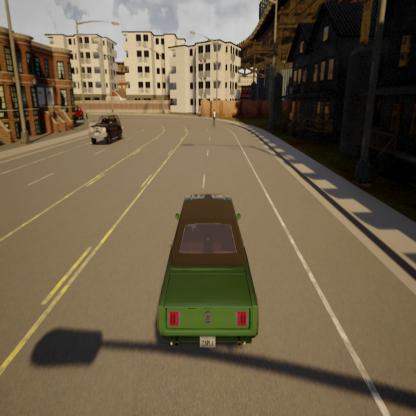Cars: (146, 192, 262, 366), (72, 102, 84, 122)
